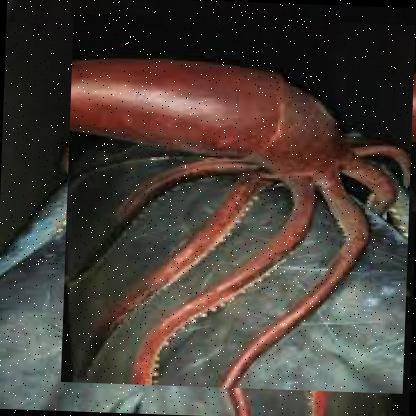colossal_squid: (60, 11, 416, 393)
